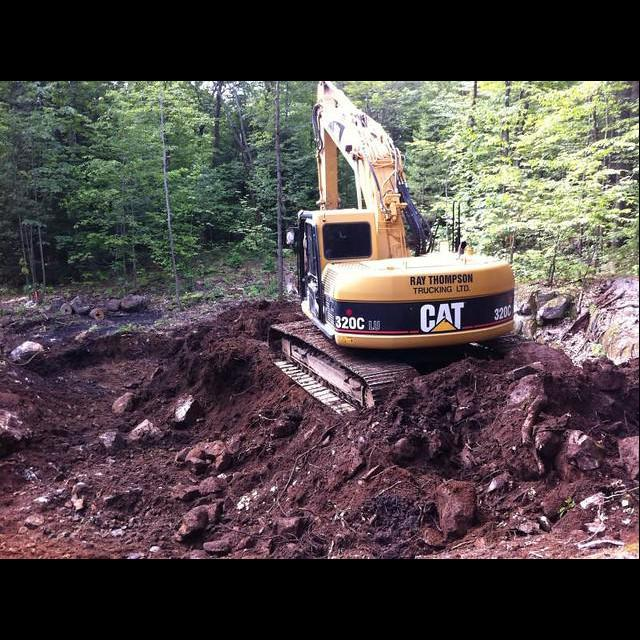Excavator: (269, 81, 526, 424)
